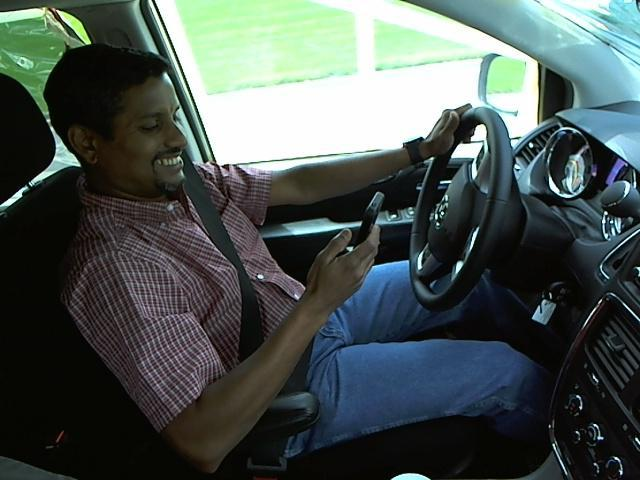PhoneUse: (346, 187, 391, 263)
